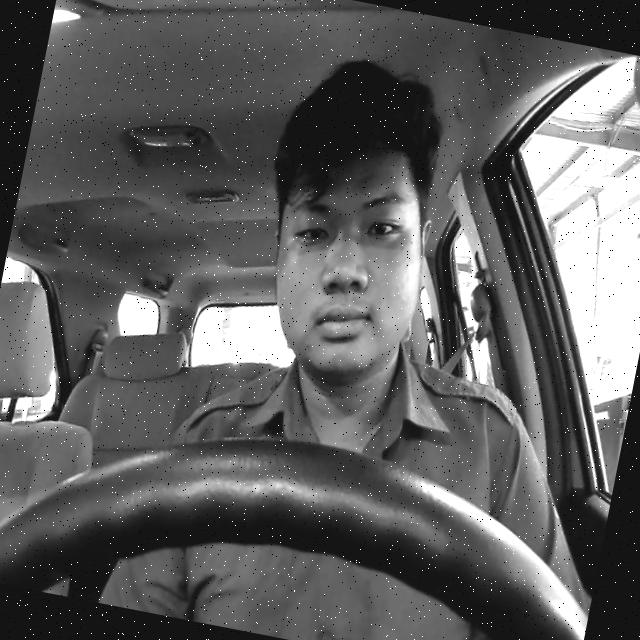focused: (252, 129, 444, 389)
